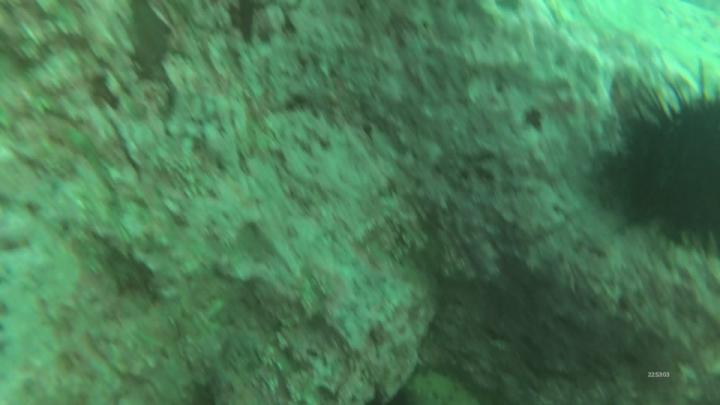echinus: (629, 88, 719, 245)
